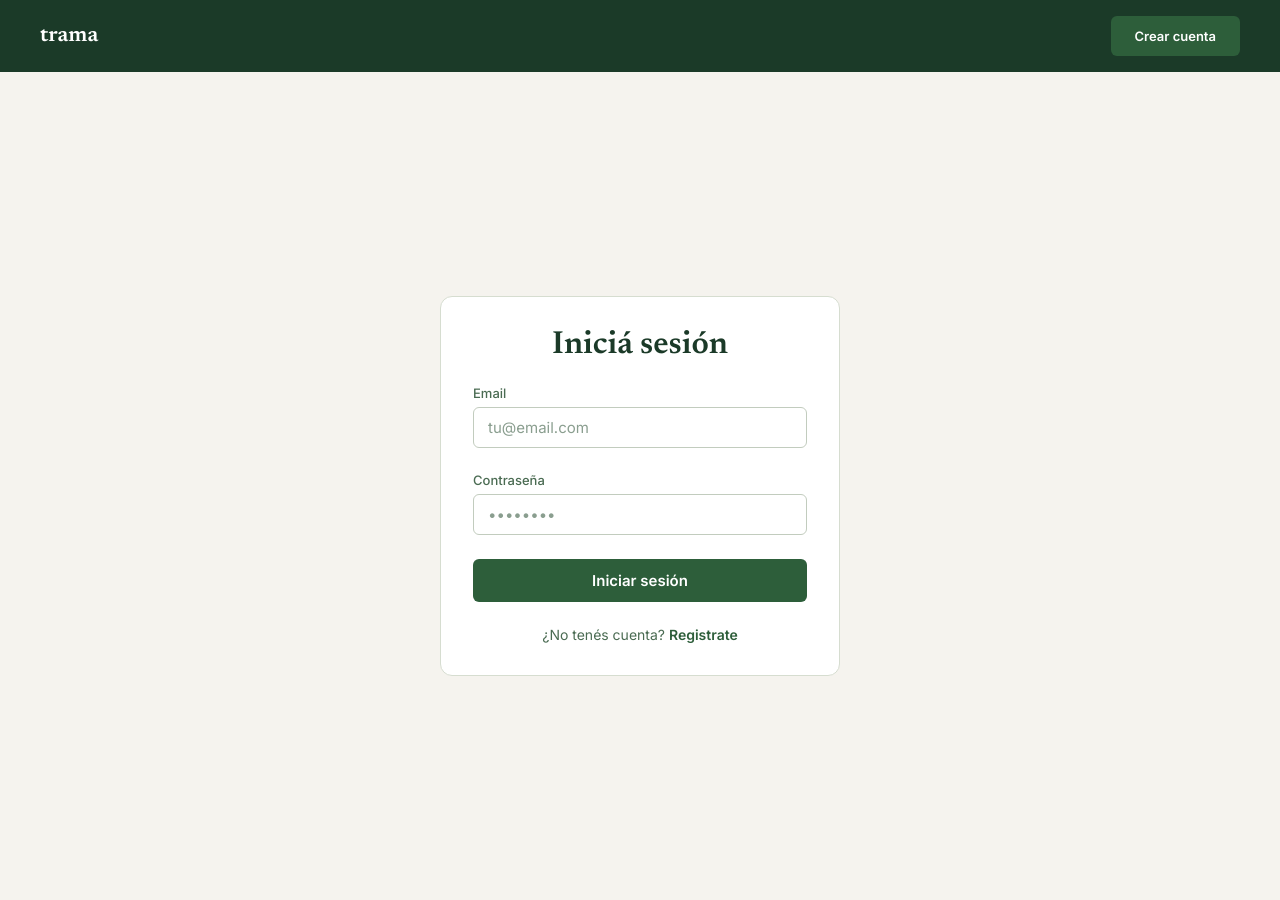
Test: Login › shows generic error on 401
Type "demo@example.com" into the field labelled "Email" at (640, 428), box [473, 407, 807, 448]
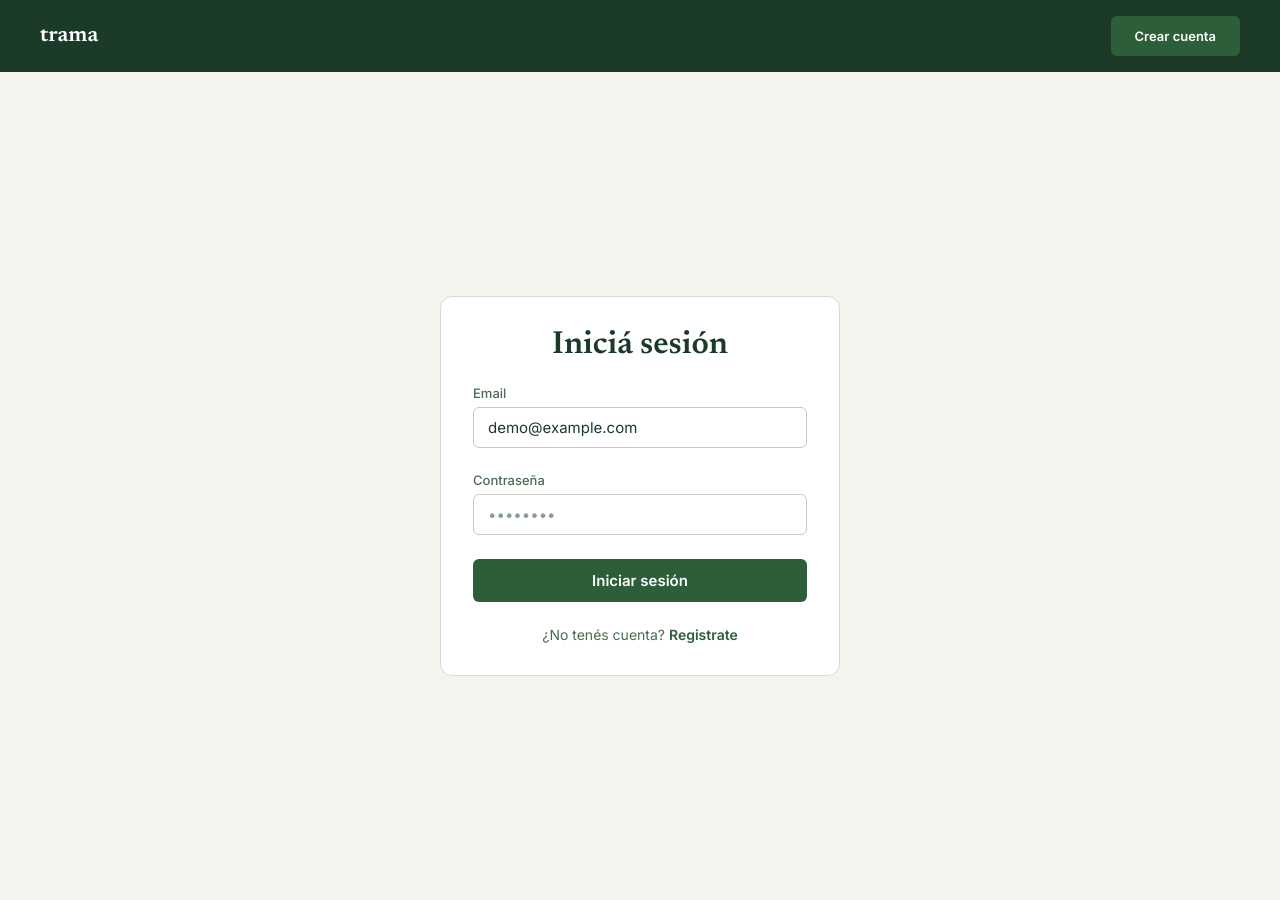
Type "wrong" into the password field labelled "Contraseña" at (640, 514), box [473, 494, 807, 535]
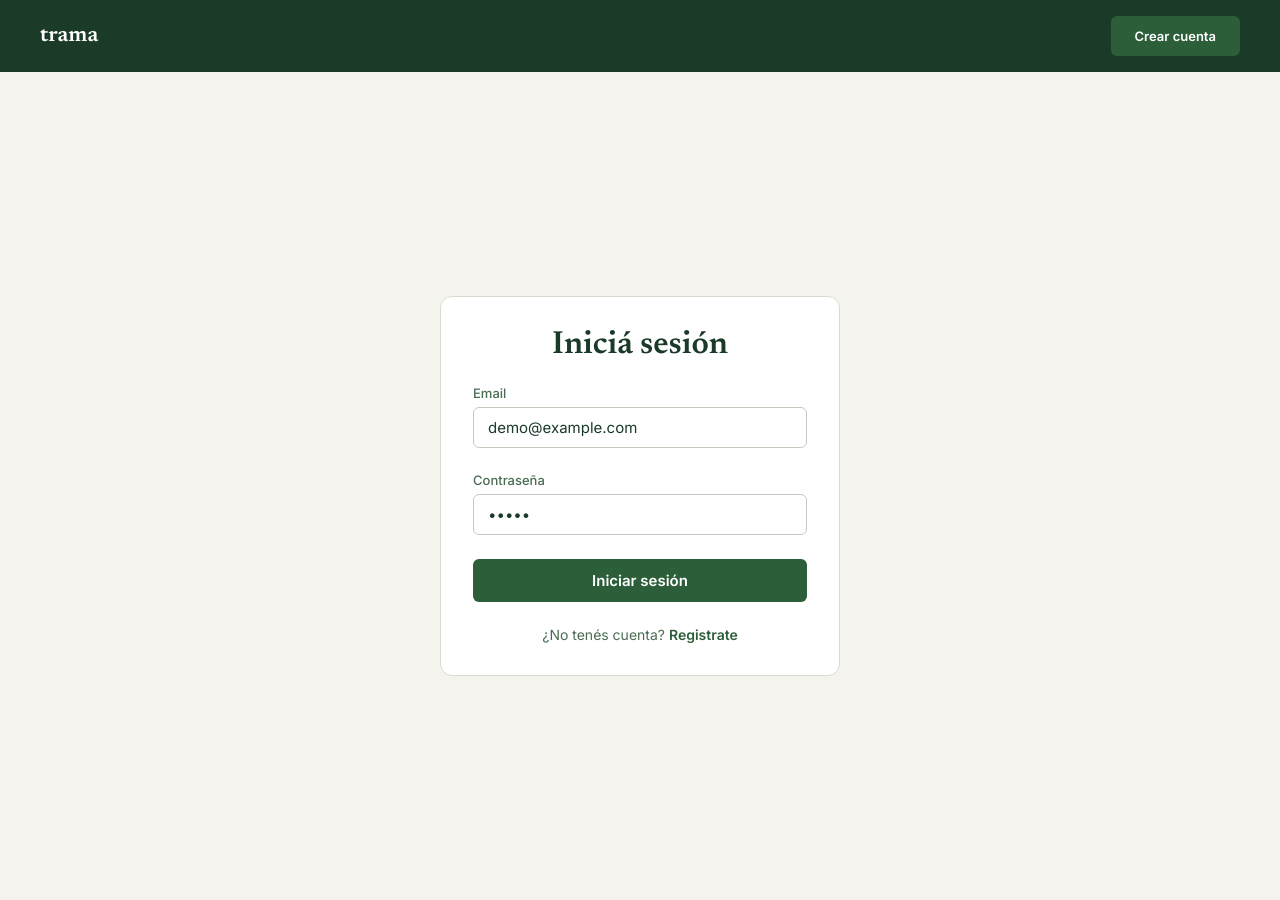
Click the button "Iniciar sesión" at (640, 580), box [473, 559, 807, 602]
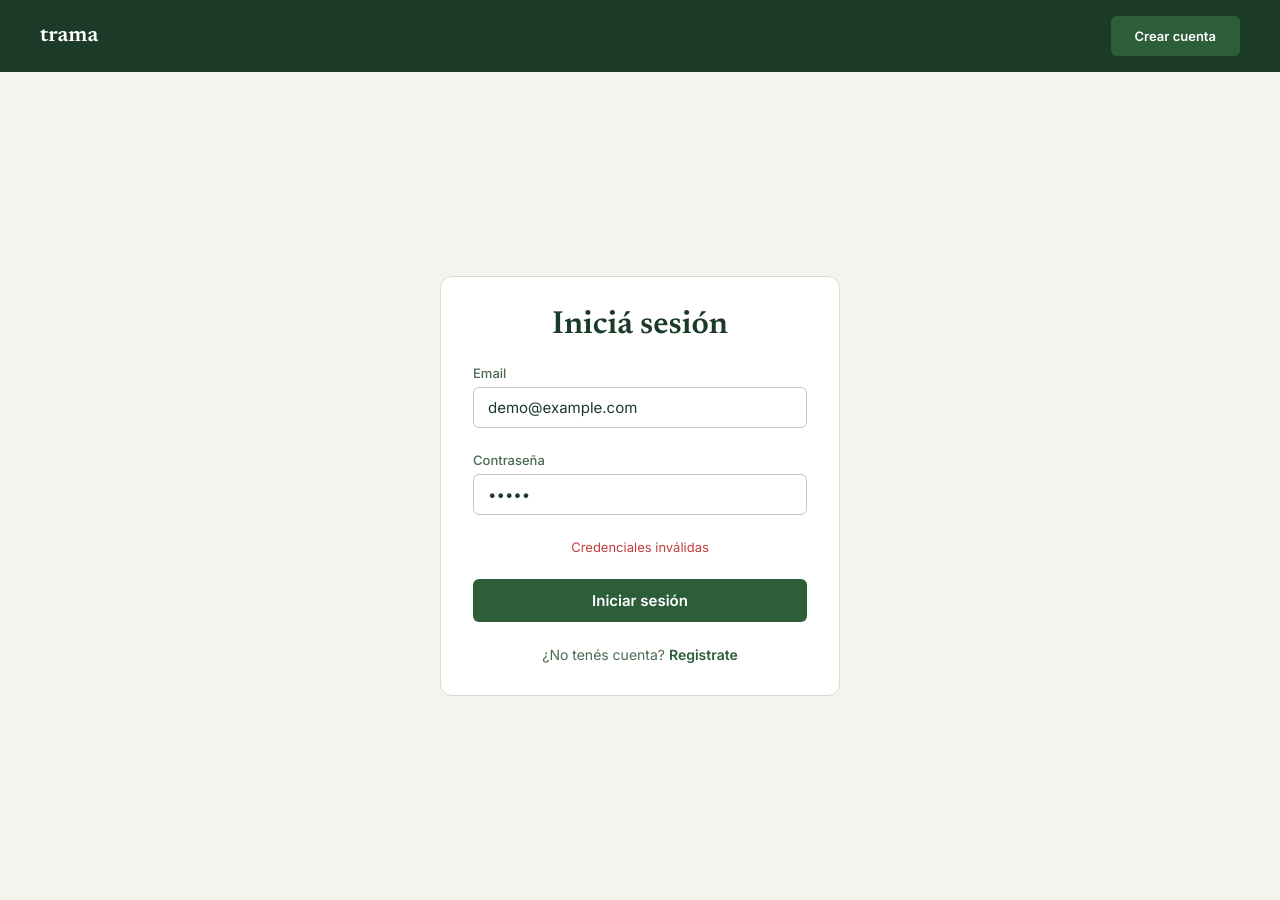
Expected: the text "Credenciales inválidas" is shown, [571, 539, 709, 555]
